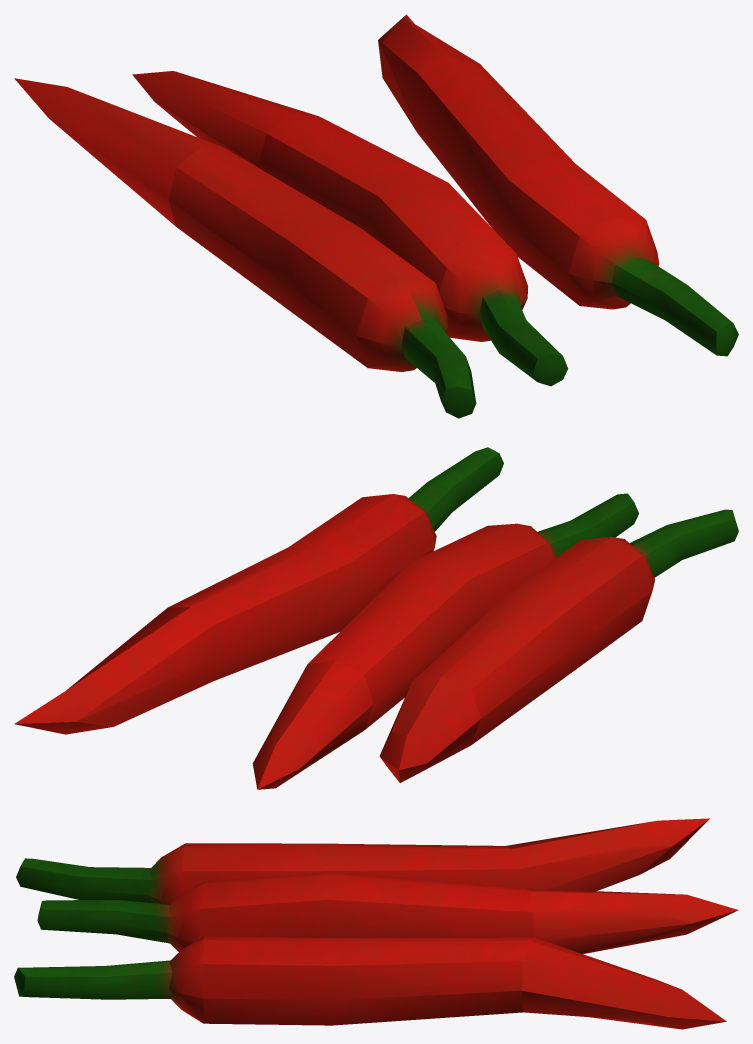
Rendered from Chilli_group.fbx.
The picture shows the model from 3 angles, top to bottom: view 1: azimuth 30°, elevation 25°; view 2: azimuth 150°, elevation 25°; view 3: azimuth 270°, elevation 25°; orthographic projection. The views are drawn at different scales.
Visible parts, largest first — view 1: Chilli_group; view 2: Chilli_group; view 3: Chilli_group.
Part boxes in pixels (bbox=[...]): Chilli_group: bbox=[14, 14, 738, 418]; Chilli_group: bbox=[14, 447, 738, 789]; Chilli_group: bbox=[14, 818, 738, 1029].
Size of the model in its own units: 0.1559 by 0.0398 by 0.2848.
